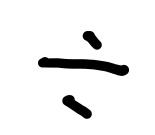div: (39, 31, 130, 119)
